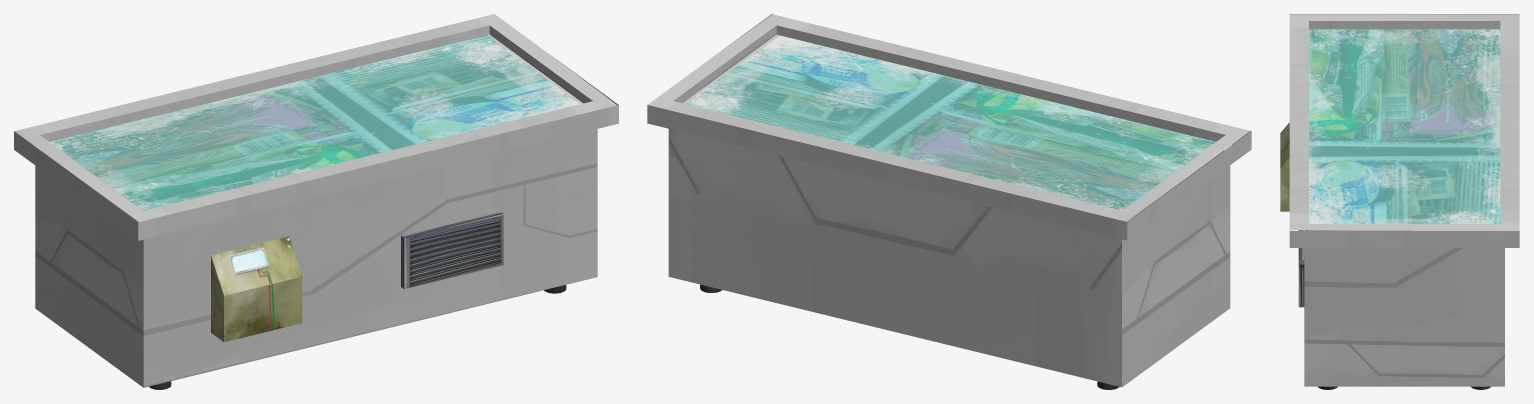
Rendered from FreezerLong.fbx.
The picture shows the model from 3 angles, left to right: view 1: azimuth 30°, elevation 25°; view 2: azimuth 150°, elevation 25°; view 3: azimuth 270°, elevation 25°; orthographic projection. The views are drawn at different scales.
Visible parts, largest first — view 1: Cube.001; view 2: Cube.001; view 3: Cube.001.
Boxes of the visible parts, x1,y1,x2,y2 form: Cube.001: [14, 14, 618, 389]; Cube.001: [647, 14, 1251, 389]; Cube.001: [1280, 14, 1519, 389].
Size of the model in its own units: 2.12 by 0.9873 by 0.7923.
